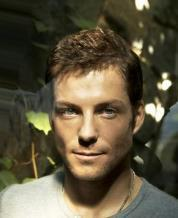face: (57, 100, 116, 160)
